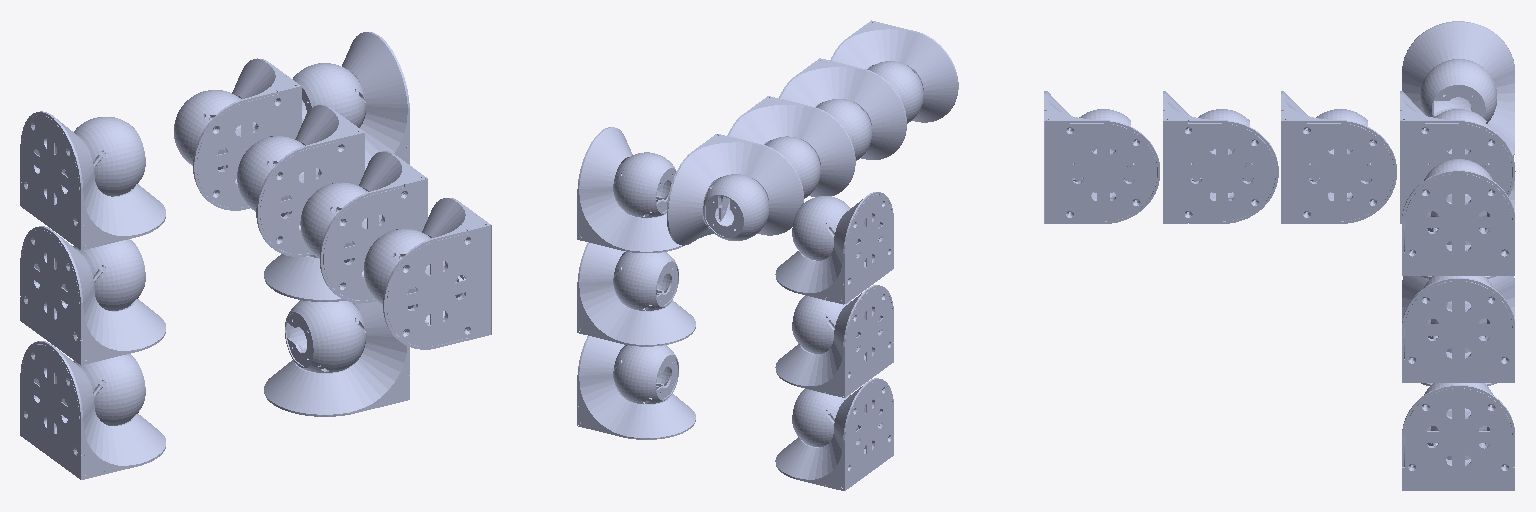
--- Facts derived from the render (not from the file) ---
3 views of the same robot in one strip: view 1: azimuth 30°, elevation 25°; view 2: azimuth 150°, elevation 25°; view 3: azimuth 270°, elevation 25° (orthographic).
Model ubot with 30 links and 29 joints (20 revolute, 9 fixed), rooted at Body0Y, posed every joint at zero.
Visible links, largest first — view 1: Body6X, Body7X, Body9X, Body8X, Body4X, Body0X, Body5X, Body3X, Body1X, Body3Center, Body7Center, Body8Center (+7 smaller); view 2: Body0X, Body9X, Body8X, Body7X, Body1X, Body2X, Body3X, Body6X, Body5X, Body4X, Body0Center, Body2Center (+8 smaller); view 3: Body6X, Body4X, Body5X, Body3X, Body1X, Body2X, Body0X, Body7X, Body7Center, Body9X, Body1Center, Body5Center (+3 smaller).
Boxes of the visible links, <box> form: Body6X: <box>383,198,491,349</box>; Body7X: <box>20,111,165,250</box>; Body9X: <box>20,341,165,479</box>; Body8X: <box>20,226,165,364</box>; Body4X: <box>256,105,364,256</box>; Body0X: <box>193,58,301,210</box>; Body5X: <box>320,151,427,303</box>; Body3X: <box>264,301,409,416</box>; Body1X: <box>342,32,409,169</box>; Body3Center: <box>285,300,365,372</box>; Body7Center: <box>74,117,145,196</box>; Body8Center: <box>73,239,145,310</box>; Body0X: <box>667,134,803,245</box>; Body9X: <box>775,378,893,490</box>; Body8X: <box>775,285,893,397</box>; Body7X: <box>775,192,893,304</box>; Body1X: <box>577,127,682,252</box>; Body2X: <box>577,242,695,346</box>; Body3X: <box>577,336,695,439</box>; Body6X: <box>830,20,958,122</box>; Body5X: <box>779,58,906,159</box>; Body4X: <box>727,96,855,196</box>; Body0Center: <box>703,174,768,240</box>; Body2Center: <box>613,252,678,310</box>; Body6X: <box>1044,91,1159,223</box>; Body4X: <box>1281,91,1396,223</box>; Body5X: <box>1163,91,1278,223</box>; Body3X: <box>1402,385,1514,490</box>; Body1X: <box>1402,170,1514,275</box>; Body2X: <box>1402,277,1514,382</box>; Body0X: <box>1400,91,1515,223</box>; Body7X: <box>1402,21,1514,157</box>; Body7Center: <box>1420,59,1496,124</box>; Body9X: <box>1402,276,1514,385</box>; Body1Center: <box>1424,159,1492,180</box>; Body5Center: <box>1198,109,1249,166</box>.
Bounding box of the posed robot: 0.2748 × 0.3646 × 0.273 m (x, y, z).
Meshes: 3 distinct files referenced, 20 mesh visuals loaded (2 Collada DAE); not drawn: 10 (reference not matched to a file when rendering).

robot.urdf — ubot:
<robot
	name="ubot">
  <link
    name="Body0X">
    <inertial>
      <origin
        xyz="-0.0019165 -0.020284 -1.5446E-08"
        rpy="0 0 0" />
      <mass
        value="0.2" />
      <inertia
        ixx="8.68E-05"
        ixy="-2.3313E-05"
        ixz="-3.6916E-12"
        iyy="8.6964E-05"
        iyz="2.5395E-11"
        izz="8.7186E-05" />
    </inertial>
    <visual>
      <origin
        xyz="0 0 0"
        rpy="0 0 0" />
      <geometry>
        <mesh
          filename="./meshes/BodyX.dae" />
      </geometry>
      <material
        name="">
        <color
          rgba="0.79216 0.81961 0.93333 1" />
      </material>
    </visual>
    <collision>
      <origin
        xyz="0 0 0"
        rpy="0 0 0" />
      <geometry>
        <mesh
          filename="./meshes/BodyXSimple.dae" />
      </geometry>
    </collision>
  </link>

  <link
    name="Body0Center">
    <inertial>
      <origin
        xyz="-0.0022809 -0.0021962 1.0803E-06"
        rpy="0 0 0" />
      <mass
        value="0.05" />
      <inertia
        ixx="1.0293E-05"
        ixy="8.5442E-08"
        ixz="-6.5039E-08"
        iyy="1.0301E-05"
        iyz="6.5245E-08"
        izz="9.1191E-06" />
    </inertial>
    <visual>
      <origin
        xyz="0 0 0"
        rpy="0 0 0" />
      <geometry>
        <mesh
          filename="./meshes/BodyCenter.dae" />
      </geometry>
      <material
        name="">
        <color
          rgba="0.79216 0.81961 0.93333 1" />
      </material>
    </visual>
    <collision>
      <origin
        xyz="0 0 0"
        rpy="0 0 0" />
      <geometry>
        <mesh
          filename="./meshes/BodyCenterSimple.dae" />
      </geometry>
    </collision>
  </link>

  <link
    name="Body0Y">
    <inertial>
      <origin
        xyz="-0.020284 -0.0019165 1.5445E-08"
        rpy="0 0 0" />
      <mass
        value="0.2" />
      <inertia
        ixx="8.6964E-05"
        ixy="-2.3313E-05"
        ixz="-2.5395E-11"
        iyy="8.68E-05"
        iyz="3.6916E-12"
        izz="8.7186E-05" />
    </inertial>
    <visual>
      <origin
        xyz="0 0 0"
        rpy="0 0 0" />
      <geometry>
        <mesh
          filename="./meshes/BodyY.dae" />
      </geometry>
      <material
        name="">
        <color
          rgba="0.79216 0.81961 0.93333 1" />
      </material>
    </visual>
    <collision>
      <origin
        xyz="0 0 0"
        rpy="0 0 0" />
      <geometry>
        <mesh
          filename="./meshes/BodyYSimple.dae" />
      </geometry>
    </collision>
  </link>

  <joint
    name="joint0Y"
    type="revolute">
    <limit effort="1.8" lower="-1.507" upper="1.507" velocity="3.14"/>
    <origin
      xyz="0 -0.0218 0"
      rpy="0 0 0" />
    <parent
      link="Body0Y" />
    <child
      link="Body0Center" />
    <axis
      xyz="0 -1 0" />
  </joint>

  <joint
    name="Joint0X"
    type="revolute">
    <limit effort="1.8" lower="-1.507" upper="1.507" velocity="3.14"/>
    <origin
      xyz="0.0218 0 0"
      rpy="0 0 0" />
    <parent
      link="Body0Center" />
    <child
      link="Body0X" />
    <axis
      xyz="1 0 0" />
  </joint>


  <link
    name="Body1X">
    <inertial>
      <origin
        xyz="-0.0019165 -0.020284 -1.5446E-08"
        rpy="0 0 0" />
      <mass
        value="0.2" />
      <inertia
        ixx="8.68E-05"
        ixy="-2.3313E-05"
        ixz="-3.6916E-12"
        iyy="8.6964E-05"
        iyz="2.5395E-11"
        izz="8.7186E-05" />
    </inertial>
    <visual>
      <origin
        xyz="0 0 0"
        rpy="0 0 0" />
      <geometry>
        <mesh
          filename="./meshes/BodyX.dae" />
      </geometry>
      <material
        name="">
        <color
          rgba="0.79216 0.81961 0.93333 1" />
      </material>
    </visual>
    <collision>
      <origin
        xyz="0 0 0"
        rpy="0 0 0" />
      <geometry>
        <mesh
          filename="./meshes/BodyXSimple.dae" />
      </geometry>
    </collision>
  </link>

  <link
    name="Body1Center">
    <inertial>
      <origin
        xyz="-0.0022809 -0.0021962 1.0803E-06"
        rpy="0 0 0" />
      <mass
        value="0.05" />
      <inertia
        ixx="1.0293E-05"
        ixy="8.5442E-08"
        ixz="-6.5039E-08"
        iyy="1.0301E-05"
        iyz="6.5245E-08"
        izz="9.1191E-06" />
    </inertial>
    <visual>
      <origin
        xyz="0 0 0"
        rpy="0 0 0" />
      <geometry>
        <mesh
          filename="./meshes/BodyCenter.dae" />
      </geometry>
      <material
        name="">
        <color
          rgba="0.79216 0.81961 0.93333 1" />
      </material>
    </visual>
    <collision>
      <origin
        xyz="0 0 0"
        rpy="0 0 0" />
      <geometry>
        <mesh
          filename="./meshes/BodyCenterSimple.dae" />
      </geometry>
    </collision>
  </link>

  <link
    name="Body1Y">
    <inertial>
      <origin
        xyz="-0.020284 -0.0019165 1.5445E-08"
        rpy="0 0 0" />
      <mass
        value="0.2" />
      <inertia
        ixx="8.6964E-05"
        ixy="-2.3313E-05"
        ixz="-2.5395E-11"
        iyy="8.68E-05"
        iyz="3.6916E-12"
        izz="8.7186E-05" />
    </inertial>
    <visual>
      <origin
        xyz="0 0 0"
        rpy="0 0 0" />
      <geometry>
        <mesh
          filename="./meshes/BodyY.dae" />
      </geometry>
      <material
        name="">
        <color
          rgba="0.79216 0.81961 0.93333 1" />
      </material>
    </visual>
    <collision>
      <origin
        xyz="0 0 0"
        rpy="0 0 0" />
      <geometry>
        <mesh
          filename="./meshes/BodyYSimple.dae" />
      </geometry>
    </collision>
  </link>

  <joint
    name="joint1Y"
    type="revolute">
    <limit effort="1.8" lower="-1.507" upper="1.507" velocity="3.14"/>
    <origin
      xyz="0 -0.0218 0"
      rpy="0 0 0" />
    <parent
      link="Body1Y" />
    <child
      link="Body1Center" />
    <axis
      xyz="0 -1 0" />
  </joint>

  <joint
    name="Joint1X"
    type="revolute">
    <limit effort="1.8" lower="-1.507" upper="1.507" velocity="3.14"/>
    <origin
      xyz="0.0218 0 0"
      rpy="0 0 0" />
    <parent
      link="Body1Center" />
    <child
      link="Body1X" />
    <axis
      xyz="1 0 0" />
  </joint>


  <joint
    name="Joint0to1"
    type="fixed">
    <origin
      xyz="0.048 0.0 0.0"
      rpy="0 1.5707963267948966 1.5707963267948966" />
    <parent
      link="Body0X" />
    <child
      link="Body1Y" />
    <axis
      xyz="0 0 0" />
  </joint>

  <link
    name="Body2X">
    <inertial>
      <origin
        xyz="-0.0019165 -0.020284 -1.5446E-08"
        rpy="0 0 0" />
      <mass
        value="0.2" />
      <inertia
        ixx="8.68E-05"
        ixy="-2.3313E-05"
        ixz="-3.6916E-12"
        iyy="8.6964E-05"
        iyz="2.5395E-11"
        izz="8.7186E-05" />
    </inertial>
    <visual>
      <origin
        xyz="0 0 0"
        rpy="0 0 0" />
      <geometry>
        <mesh
          filename="./meshes/BodyX.dae" />
      </geometry>
      <material
        name="">
        <color
          rgba="0.79216 0.81961 0.93333 1" />
      </material>
    </visual>
    <collision>
      <origin
        xyz="0 0 0"
        rpy="0 0 0" />
      <geometry>
        <mesh
          filename="./meshes/BodyXSimple.dae" />
      </geometry>
    </collision>
  </link>

  <link
    name="Body2Center">
    <inertial>
      <origin
        xyz="-0.0022809 -0.0021962 1.0803E-06"
        rpy="0 0 0" />
      <mass
        value="0.05" />
      <inertia
        ixx="1.0293E-05"
        ixy="8.5442E-08"
        ixz="-6.5039E-08"
        iyy="1.0301E-05"
        iyz="6.5245E-08"
        izz="9.1191E-06" />
    </inertial>
    <visual>
      <origin
        xyz="0 0 0"
        rpy="0 0 0" />
      <geometry>
        <mesh
          filename="./meshes/BodyCenter.dae" />
      </geometry>
      <material
        name="">
        <color
          rgba="0.79216 0.81961 0.93333 1" />
      </material>
    </visual>
    <collision>
      <origin
        xyz="0 0 0"
        rpy="0 0 0" />
      <geometry>
        <mesh
          filename="./meshes/BodyCenterSimple.dae" />
      </geometry>
    </collision>
  </link>

  <link
    name="Body2Y">
    <inertial>
      <origin
        xyz="-0.020284 -0.0019165 1.5445E-08"
        rpy="0 0 0" />
      <mass
        value="0.2" />
      <inertia
        ixx="8.6964E-05"
        ixy="-2.3313E-05"
        ixz="-2.5395E-11"
        iyy="8.68E-05"
        iyz="3.6916E-12"
        izz="8.7186E-05" />
    </inertial>
    <visual>
      <origin
        xyz="0 0 0"
        rpy="0 0 0" />
      <geometry>
        <mesh
          filename="./meshes/BodyY.dae" />
      </geometry>
      <material
        name="">
        <color
          rgba="0.79216 0.81961 0.93333 1" />
      </material>
    </visual>
    <collision>
      <origin
        xyz="0 0 0"
        rpy="0 0 0" />
      <geometry>
        <mesh
          filename="./meshes/BodyYSimple.dae" />
      </geometry>
    </collision>
  </link>

  <joint
    name="joint2Y"
    type="revolute">
    <limit effort="1.8" lower="-1.507" upper="1.507" velocity="3.14"/>
    <origin
      xyz="0 -0.0218 0"
      rpy="0 0 0" />
    <parent
      link="Body2Y" />
    <child
      link="Body2Center" />
    <axis
      xyz="0 -1 0" />
  </joint>

  <joint
    name="Joint2X"
    type="revolute">
    <limit effort="1.8" lower="-1.507" upper="1.507" velocity="3.14"/>
    <origin
      xyz="0.0218 0 0"
      rpy="0 0 0" />
    <parent
      link="Body2Center" />
    <child
      link="Body2X" />
    <axis
      xyz="1 0 0" />
  </joint>


  <joint
    name="Joint1to2"
    type="fixed">
    <origin
      xyz="0.0698 0.0218 0.0"
      rpy="0.0 -0.0 0.0" />
    <parent
      link="Body1X" />
    <child
      link="Body2Y" />
    <axis
      xyz="0 0 0" />
  </joint>

  <link
    name="Body3X">
    <inertial>
      <origin
        xyz="-0.0019165 -0.020284 -1.5446E-08"
        rpy="0 0 0" />
      <mass
        value="0.2" />
      <inertia
        ixx="8.68E-05"
        ixy="-2.3313E-05"
        ixz="-3.6916E-12"
        iyy="8.6964E-05"
        iyz="2.5395E-11"
        izz="8.7186E-05" />
    </inertial>
    <visual>
      <origin
        xyz="0 0 0"
        rpy="0 0 0" />
      <geometry>
        <mesh
          filename="./meshes/BodyX.dae" />
      </geometry>
      <material
        name="">
        <color
          rgba="0.79216 0.81961 0.93333 1" />
      </material>
    </visual>
    <collision>
      <origin
        xyz="0 0 0"
        rpy="0 0 0" />
      <geometry>
        <mesh
          filename="./meshes/BodyXSimple.dae" />
      </geometry>
    </collision>
  </link>

  <link
    name="Body3Center">
    <inertial>
      <origin
        xyz="-0.0022809 -0.0021962 1.0803E-06"
        rpy="0 0 0" />
      <mass
        value="0.05" />
      <inertia
        ixx="1.0293E-05"
        ixy="8.5442E-08"
        ixz="-6.5039E-08"
        iyy="1.0301E-05"
        iyz="6.5245E-08"
        izz="9.1191E-06" />
    </inertial>
    <visual>
      <origin
        xyz="0 0 0"
        rpy="0 0 0" />
      <geometry>
        <mesh
          filename="./meshes/BodyCenter.dae" />
      </geometry>
      <material
        name="">
        <color
          rgba="0.79216 0.81961 0.93333 1" />
      </material>
    </visual>
    <collision>
      <origin
        xyz="0 0 0"
        rpy="0 0 0" />
      <geometry>
        <mesh
          filename="./meshes/BodyCenterSimple.dae" />
      </geometry>
    </collision>
  </link>

  <link
    name="Body3Y">
    <inertial>
      <origin
        xyz="-0.020284 -0.0019165 1.5445E-08"
        rpy="0 0 0" />
      <mass
        value="0.2" />
      <inertia
        ixx="8.6964E-05"
        ixy="-2.3313E-05"
        ixz="-2.5395E-11"
        iyy="8.68E-05"
        iyz="3.6916E-12"
        izz="8.7186E-05" />
    </inertial>
    <visual>
      <origin
        xyz="0 0 0"
        rpy="0 0 0" />
      <geometry>
        <mesh
          filename="./meshes/BodyY.dae" />
      </geometry>
      <material
        name="">
        <color
          rgba="0.79216 0.81961 0.93333 1" />
      </material>
    </visual>
    <collision>
      <origin
        xyz="0 0 0"
        rpy="0 0 0" />
      <geometry>
        <mesh
          filename="./meshes/BodyYSimple.dae" />
      </geometry>
    </collision>
  </link>

  <joint
    name="joint3Y"
    type="revolute">
    <limit effort="1.8" lower="-1.507" upper="1.507" velocity="3.14"/>
    <origin
      xyz="0 -0.0218 0"
      rpy="0 0 0" />
    <parent
      link="Body3Y" />
    <child
      link="Body3Center" />
    <axis
      xyz="0 -1 0" />
  </joint>

  <joint
    name="Joint3X"
    type="revolute">
    <limit effort="1.8" lower="-1.507" upper="1.507" velocity="3.14"/>
    <origin
      xyz="0.0218 0 0"
      rpy="0 0 0" />
    <parent
      link="Body3Center" />
    <child
      link="Body3X" />
    <axis
      xyz="1 0 0" />
  </joint>


  <joint
    name="Joint2to3"
    type="fixed">
    <origin
      xyz="0.0698 0.0218 0.0"
      rpy="0.0 -0.0 0.0" />
    <parent
      link="Body2X" />
    <child
      link="Body3Y" />
    <axis
      xyz="0 0 0" />
  </joint>

  <link
    name="Body4X">
    <inertial>
      <origin
        xyz="-0.0019165 -0.020284 -1.5446E-08"
        rpy="0 0 0" />
      <mass
        value="0.2" />
      <inertia
        ixx="8.68E-05"
        ixy="-2.3313E-05"
        ixz="-3.6916E-12"
        iyy="8.6964E-05"
        iyz="2.5395E-11"
        izz="8.7186E-05" />
    </inertial>
    <visual>
      <origin
        xyz="0 0 0"
        rpy="0 0 0" />
      <geometry>
        <mesh
          filename="./meshes/BodyX.dae" />
      </geometry>
      <material
        name="">
        <color
          rgba="0.79216 0.81961 0.93333 1" />
      </material>
    </visual>
    <collision>
      <origin
        xyz="0 0 0"
        rpy="0 0 0" />
      <geometry>
        <mesh
          filename="./meshes/BodyXSimple.dae" />
      </geometry>
    </collision>
  </link>

  <link
    name="Body4Center">
    <inertial>
      <origin
        xyz="-0.0022809 -0.0021962 1.0803E-06"
        rpy="0 0 0" />
      <mass
        value="0.05" />
      <inertia
        ixx="1.0293E-05"
        ixy="8.5442E-08"
        ixz="-6.5039E-08"
        iyy="1.0301E-05"
        iyz="6.5245E-08"
        izz="9.1191E-06" />
    </inertial>
    <visual>
      <origin
        xyz="0 0 0"
        rpy="0 0 0" />
      <geometry>
        <mesh
          filename="./meshes/BodyCenter.dae" />
      </geometry>
      <material
        name="">
        <color
          rgba="0.79216 0.81961 0.93333 1" />
      </material>
    </visual>
    <collision>
      <origin
        xyz="0 0 0"
        rpy="0 0 0" />
      <geometry>
        <mesh
          filename="./meshes/BodyCenterSimple.dae" />
      </geometry>
    </collision>
  </link>

  <link
    name="Body4Y">
    <inertial>
      <origin
        xyz="-0.020284 -0.0019165 1.5445E-08"
        rpy="0 0 0" />
      <mass
        value="0.2" />
      <inertia
        ixx="8.6964E-05"
        ixy="-2.3313E-05"
        ixz="-2.5395E-11"
        iyy="8.68E-05"
        iyz="3.6916E-12"
        izz="8.7186E-05" />
    </inertial>
    <visual>
      <origin
        xyz="0 0 0"
        rpy="0 0 0" />
      <geometry>
        <mesh
          filename="./meshes/BodyY.dae" />
      </geometry>
      <material
        name="">
        <color
          rgba="0.79216 0.81961 0.93333 1" />
      </material>
    </visual>
    <collision>
      <origin
        xyz="0 0 0"
        rpy="0 0 0" />
      <geometry>
        <mesh
          filename="./meshes/BodyYSimple.dae" />
      </geometry>
    </collision>
  </link>

  <joint
    name="joint4Y"
    type="revolute">
    <limit effort="1.8" lower="-1.507" upper="1.507" velocity="3.14"/>
    <origin
      xyz="0 -0.0218 0"
      rpy="0 0 0" />
    <parent
      link="Body4Y" />
    <child
      link="Body4Center" />
    <axis
      xyz="0 -1 0" />
  </joint>

  <joint
    name="Joint4X"
    type="revolute">
    <limit effort="1.8" lower="-1.507" upper="1.507" velocity="3.14"/>
    <origin
      xyz="0.0218 0 0"
      rpy="0 0 0" />
    <parent
      link="Body4Center" />
    <child
      link="Body4X" />
    <axis
      xyz="1 0 0" />
  </joint>


  <joint
    name="Joint0to4"
    type="fixed">
    <origin
      xyz="-0.0218 -0.0698 0.0"
      rpy="0.0 -0.0 0.0" />
    <parent
      link="Body0X" />
    <child
      link="Body4Y" />
    <axis
      xyz="0 0 0" />
  </joint>

  <link
    name="Body5X">
    <inertial>
      <origin
        xyz="-0.0019165 -0.020284 -1.5446E-08"
        rpy="0 0 0" />
      <mass
        value="0.2" />
      <inertia
        ixx="8.68E-05"
        ixy="-2.3313E-05"
        ixz="-3.6916E-12"
        iyy="8.6964E-05"
        iyz="2.5395E-11"
        izz="8.7186E-05" />
    </inertial>
    <visual>
      <origin
        xyz="0 0 0"
        rpy="0 0 0" />
      <geometry>
        <mesh
          filename="./meshes/BodyX.dae" />
      </geometry>
      <material
        name="">
        <color
          rgba="0.79216 0.81961 0.93333 1" />
      </material>
    </visual>
    <collision>
      <origin
        xyz="0 0 0"
        rpy="0 0 0" />
      <geometry>
        <mesh
          filename="./meshes/BodyXSimple.dae" />
      </geometry>
    </collision>
  </link>

  <link
    name="Body5Center">
    <inertial>
      <origin
        xyz="-0.0022809 -0.0021962 1.0803E-06"
        rpy="0 0 0" />
      <mass
        value="0.05" />
      <inertia
        ixx="1.0293E-05"
        ixy="8.5442E-08"
        ixz="-6.5039E-08"
        iyy="1.0301E-05"
        iyz="6.5245E-08"
        izz="9.1191E-06" />
    </inertial>
    <visual>
      <origin
        xyz="0 0 0"
        rpy="0 0 0" />
      <geometry>
        <mesh
          filename="./meshes/BodyCenter.dae" />
      </geometry>
      <material
        name="">
        <color
          rgba="0.79216 0.81961 0.93333 1" />
      </material>
    </visual>
    <collision>
      <origin
        xyz="0 0 0"
        rpy="0 0 0" />
      <geometry>
        <mesh
          filename="./meshes/BodyCenterSimple.dae" />
      </geometry>
    </collision>
  </link>

  <link
    name="Body5Y">
    <inertial>
      <origin
        xyz="-0.020284 -0.0019165 1.5445E-08"
        rpy="0 0 0" />
      <mass
        value="0.2" />
      <inertia
        ixx="8.6964E-05"
        ixy="-2.3313E-05"
        ixz="-2.5395E-11"
        iyy="8.68E-05"
        iyz="3.6916E-12"
        izz="8.7186E-05" />
    </inertial>
    <visual>
      <origin
        xyz="0 0 0"
        rpy="0 0 0" />
      <geometry>
        <mesh
          filename="./meshes/BodyY.dae" />
      </geometry>
      <material
        name="">
        <color
          rgba="0.79216 0.81961 0.93333 1" />
      </material>
    </visual>
    <collision>
      <origin
        xyz="0 0 0"
        rpy="0 0 0" />
      <geometry>
        <mesh
          filename="./meshes/BodyYSimple.dae" />
      </geometry>
    </collision>
  </link>

  <joint
    name="joint5Y"
    type="revolute">
    <limit effort="1.8" lower="-1.507" upper="1.507" velocity="3.14"/>
    <origin
      xyz="0 -0.0218 0"
      rpy="0 0 0" />
    <parent
      link="Body5Y" />
    <child
      link="Body5Center" />
    <axis
      xyz="0 -1 0" />
  </joint>

  <joint
    name="Joint5X"
    type="revolute">
    <limit effort="1.8" lower="-1.507" upper="1.507" velocity="3.14"/>
    <origin
      xyz="0.0218 0 0"
      rpy="0 0 0" />
    <parent
      link="Body5Center" />
    <child
      link="Body5X" />
    <axis
      xyz="1 0 0" />
  </joint>


  <joint
    name="Joint4to5"
    type="fixed">
    <origin
      xyz="-0.0218 -0.0698 0.0"
      rpy="0.0 -0.0 0.0" />
    <parent
      link="Body4X" />
    <child
      link="Body5Y" />
    <axis
      xyz="0 0 0" />
  </joint>

  <link
    name="Body6X">
    <inertial>
      <origin
        xyz="-0.0019165 -0.020284 -1.5446E-08"
        rpy="0 0 0" />
      <mass
        value="0.2" />
      <inertia
        ixx="8.68E-05"
        ixy="-2.3313E-05"
        ixz="-3.6916E-12"
        iyy="8.6964E-05"
        iyz="2.5395E-11"
        izz="8.7186E-05" />
    </inertial>
    <visual>
      <origin
        xyz="0 0 0"
        rpy="0 0 0" />
      <geometry>
        <mesh
          filename="./meshes/BodyX.dae" />
      </geometry>
      <material
        name="">
        <color
          rgba="0.79216 0.81961 0.93333 1" />
      </material>
    </visual>
    <collision>
      <origin
        xyz="0 0 0"
        rpy="0 0 0" />
      <geometry>
        <mesh
          filename="./meshes/BodyXSimple.dae" />
      </geometry>
    </collision>
  </link>

  <link
    name="Body6Center">
    <inertial>
      <origin
        xyz="-0.0022809 -0.0021962 1.0803E-06"
        rpy="0 0 0" />
      <mass
        value="0.05" />
      <inertia
        ixx="1.0293E-05"
        ixy="8.5442E-08"
        ixz="-6.5039E-08"
        iyy="1.0301E-05"
        iyz="6.5245E-08"
        izz="9.1191E-06" />
    </inertial>
    <visual>
      <origin
        xyz="0 0 0"
        rpy="0 0 0" />
      <geometry>
        <mesh
          filename="./meshes/BodyCenter.dae" />
      </geometry>
      <material
        name="">
        <color
          rgba="0.79216 0.81961 0.93333 1" />
      </material>
    </visual>
    <collision>
      <origin
        xyz="0 0 0"
        rpy="0 0 0" />
      <geometry>
        <mesh
          filename="./meshes/BodyCenterSimple.dae" />
      </geometry>
    </collision>
  </link>

  <link
    name="Body6Y">
    <inertial>
      <origin
        xyz="-0.020284 -0.0019165 1.5445E-08"
        rpy="0 0 0" />
      <mass
        value="0.2" />
      <inertia
        ixx="8.6964E-05"
        ixy="-2.3313E-05"
        ixz="-2.5395E-11"
        iyy="8.68E-05"
        iyz="3.6916E-12"
        izz="8.7186E-05" />
    </inertial>
    <visual>
      <origin
        xyz="0 0 0"
        rpy="0 0 0" />
      <geometry>
        <mesh
          filename="./meshes/BodyY.dae" />
      </geometry>
      <material
        name="">
        <color
          rgba="0.79216 0.81961 0.93333 1" />
      </material>
    </visual>
    <collision>
      <origin
        xyz="0 0 0"
        rpy="0 0 0" />
      <geometry>
        <mesh
          filename="./meshes/BodyYSimple.dae" />
      </geometry>
    </collision>
  </link>

  <joint
    name="joint6Y"
    type="revolute">
    <limit effort="1.8" lower="-1.507" upper="1.507" velocity="3.14"/>
    <origin
      xyz="0 -0.0218 0"
      rpy="0 0 0" />
    <parent
      link="Body6Y" />
    <child
      link="Body6Center" />
    <axis
      xyz="0 -1 0" />
  </joint>

  <joint
    name="Joint6X"
    type="revolute">
    <limit effort="1.8" lower="-1.507" upper="1.507" velocity="3.14"/>
    <origin
      xyz="0.0218 0 0"
      rpy="0 0 0" />
    <parent
      link="Body6Center" />
    <child
      link="Body6X" />
    <axis
      xyz="1 0 0" />
  </joint>


  <joint
    name="Joint5to6"
    type="fixed">
    <origin
      xyz="-0.0218 -0.0698 0.0"
      rpy="0.0 -0.0 0.0" />
    <parent
      link="Body5X" />
    <child
      link="Body6Y" />
    <axis
      xyz="0 0 0" />
  </joint>

  <link
    name="Body7X">
    <inertial>
      <origin
        xyz="-0.0019165 -0.020284 -1.5446E-08"
        rpy="0 0 0" />
      <mass
        value="0.2" />
      <inertia
        ixx="8.68E-05"
        ixy="-2.3313E-05"
        ixz="-3.6916E-12"
        iyy="8.6964E-05"
        iyz="2.5395E-11"
        izz="8.7186E-05" />
    </inertial>
    <visual>
      <origin
        xyz="0 0 0"
        rpy="0 0 0" />
      <geometry>
        <mesh
          filename="./meshes/BodyX.dae" />
      </geometry>
      <material
        name="">
        <color
          rgba="0.79216 0.81961 0.93333 1" />
      </material>
    </visual>
    <collision>
      <origin
        xyz="0 0 0"
        rpy="0 0 0" />
      <geometry>
        <mesh
          filename="./meshes/BodyXSimple.dae" />
      </geometry>
    </collision>
  </link>

  <link
    name="Body7Center">
    <inertial>
      <origin
        xyz="-0.0022809 -0.0021962 1.0803E-06"
        rpy="0 0 0" />
      <mass
        value="0.05" />
      <inertia
        ixx="1.0293E-05"
        ixy="8.5442E-08"
        ixz="-6.5039E-08"
        iyy="1.0301E-05"
        iyz="6.5245E-08"
        izz="9.1191E-06" />
    </inertial>
    <visual>
      <origin
        xyz="0 0 0"
        rpy="0 0 0" />
      <geometry>
        <mesh
          filename="./meshes/BodyCenter.dae" />
      </geometry>
      <material
        name="">
        <color
          rgba="0.79216 0.81961 0.93333 1" />
      </material>
    </visual>
    <collision>
      <origin
        xyz="0 0 0"
        rpy="0 0 0" />
      <geometry>
        <mesh
          filename="./meshes/BodyCenterSimple.dae" />
      </geometry>
    </collision>
  </link>

  <link
    name="Body7Y">
    <inertial>
      <origin
        xyz="-0.020284 -0.0019165 1.5445E-08"
        rpy="0 0 0" />
      <mass
        value="0.2" />
      <inertia
        ixx="8.6964E-05"
        ixy="-2.3313E-05"
        ixz="-2.5395E-11"
        iyy="8.68E-05"
        iyz="3.6916E-12"
        izz="8.7186E-05" />
    </inertial>
    <visual>
      <origin
        xyz="0 0 0"
        rpy="0 0 0" />
      <geometry>
        <mesh
          filename="./meshes/BodyY.dae" />
      </geometry>
      <material
        name="">
        <color
          rgba="0.79216 0.81961 0.93333 1" />
      </material>
    </visual>
    <collision>
      <origin
        xyz="0 0 0"
        rpy="0 0 0" />
      <geometry>
        <mesh
          filename="./meshes/BodyYSimple.dae" />
      </geometry>
    </collision>
  </link>

  <joint
    name="joint7Y"
    type="revolute">
    <limit effort="1.8" lower="-1.507" upper="1.507" velocity="3.14"/>
    <origin
      xyz="0 -0.0218 0"
      rpy="0 0 0" />
    <parent
      link="Body7Y" />
    <child
      link="Body7Center" />
    <axis
      xyz="0 -1 0" />
  </joint>

  <joint
    name="Joint7X"
    type="revolute">
    <limit effort="1.8" lower="-1.507" upper="1.507" velocity="3.14"/>
    <origin
      xyz="0.0218 0 0"
      rpy="0 0 0" />
    <parent
      link="Body7Center" />
    <child
      link="Body7X" />
    <axis
      xyz="1 0 0" />
  </joint>


  <joint
    name="Joint0to7"
    type="fixed">
    <origin
      xyz="-0.0698 -0.0218 0.0"
      rpy="0 1.5707963267948966 -1.5707963267948966" />
    <parent
      link="Body0Y" />
    <child
      link="Body7Y" />
    <axis
      xyz="0 0 0" />
  </joint>

  <link
    name="Body8X">
    <inertial>
      <origin
        xyz="-0.0019165 -0.020284 -1.5446E-08"
        rpy="0 0 0" />
      <mass
        value="0.2" />
      <inertia
        ixx="8.68E-05"
        ixy="-2.3313E-05"
        ixz="-3.6916E-12"
        iyy="8.6964E-05"
        iyz="2.5395E-11"
        izz="8.7186E-05" />
    </inertial>
    <visual>
      <origin
        xyz="0 0 0"
        rpy="0 0 0" />
      <geometry>
        <mesh
          filename="./meshes/BodyX.dae" />
      </geometry>
      <material
        name="">
        <color
          rgba="0.79216 0.81961 0.93333 1" />
      </material>
    </visual>
    <collision>
      <origin
        xyz="0 0 0"
        rpy="0 0 0" />
      <geometry>
        <mesh
          filename="./meshes/BodyXSimple.dae" />
      </geometry>
    </collision>
  </link>

  <link
    name="Body8Center">
    <inertial>
      <origin
        xyz="-0.0022809 -0.0021962 1.0803E-06"
        rpy="0 0 0" />
      <mass
        value="0.05" />
      <inertia
        ixx="1.0293E-05"
        ixy="8.5442E-08"
        ixz="-6.5039E-08"
        iyy="1.0301E-05"
        iyz="6.5245E-08"
        izz="9.1191E-06" />
    </inertial>
    <visual>
      <origin
        xyz="0 0 0"
        rpy="0 0 0" />
      <geometry>
        <mesh
          filename="./meshes/BodyCenter.dae" />
      </geometry>
      <material
        name="">
        <color
          rgba="0.79216 0.81961 0.93333 1" />
      </material>
    </visual>
    <collision>
      <origin
        xyz="0 0 0"
        rpy="0 0 0" />
      <geometry>
        <mesh
          filename="./meshes/BodyCenterSimple.dae" />
      </geometry>
    </collision>
  </link>

  <link
    name="Body8Y">
    <inertial>
      <origin
        xyz="-0.020284 -0.0019165 1.5445E-08"
        rpy="0 0 0" />
      <mass
        value="0.2" />
      <inertia
        ixx="8.6964E-05"
        ixy="-2.3313E-05"
        ixz="-2.5395E-11"
        iyy="8.68E-05"
        iyz="3.6916E-12"
        izz="8.7186E-05" />
    </inertial>
    <visual>
      <origin
        xyz="0 0 0"
        rpy="0 0 0" />
      <geometry>
        <mesh
          filename="./meshes/BodyY.dae" />
      </geometry>
      <material
        name="">
        <color
          rgba="0.79216 0.81961 0.93333 1" />
      </material>
    </visual>
    <collision>
      <origin
        xyz="0 0 0"
        rpy="0 0 0" />
      <geometry>
        <mesh
          filename="./meshes/BodyYSimple.dae" />
      </geometry>
    </collision>
  </link>

  <joint
    name="joint8Y"
    type="revolute">
    <limit effort="1.8" lower="-1.507" upper="1.507" velocity="3.14"/>
    <origin
      xyz="0 -0.0218 0"
      rpy="0 0 0" />
    <parent
      link="Body8Y" />
    <child
      link="Body8Center" />
    <axis
      xyz="0 -1 0" />
  </joint>

  <joint
    name="Joint8X"
    type="revolute">
    <limit effort="1.8" lower="-1.507" upper="1.507" velocity="3.14"/>
    <origin
      xyz="0.0218 0 0"
      rpy="0 0 0" />
    <parent
      link="Body8Center" />
    <child
      link="Body8X" />
    <axis
      xyz="1 0 0" />
  </joint>


  <joint
    name="Joint7to8"
    type="fixed">
    <origin
      xyz="0.0698 0.0218 0.0"
      rpy="0.0 -0.0 0.0" />
    <parent
      link="Body7X" />
    <child
      link="Body8Y" />
    <axis
      xyz="0 0 0" />
  </joint>

  <link
    name="Body9X">
    <inertial>
      <origin
        xyz="-0.0019165 -0.020284 -1.5446E-08"
        rpy="0 0 0" />
      <mass
        value="0.2" />
      <inertia
        ixx="8.68E-05"
        ixy="-2.3313E-05"
        ixz="-3.6916E-12"
        iyy="8.6964E-05"
        iyz="2.5395E-11"
        izz="8.7186E-05" />
    </inertial>
    <visual>
      <origin
        xyz="0 0 0"
        rpy="0 0 0" />
      <geometry>
        <mesh
          filename="./meshes/BodyX.dae" />
      </geometry>
      <material
        name="">
        <color
          rgba="0.79216 0.81961 0.93333 1" />
      </material>
    </visual>
    <collision>
      <origin
        xyz="0 0 0"
        rpy="0 0 0" />
      <geometry>
        <mesh
          filename="./meshes/BodyXSimple.dae" />
      </geometry>
    </collision>
  </link>

  <link
    name="Body9Center">
    <inertial>
      <origin
        xyz="-0.0022809 -0.0021962 1.0803E-06"
        rpy="0 0 0" />
      <mass
        value="0.05" />
      <inertia
        ixx="1.0293E-05"
        ixy="8.5442E-08"
        ixz="-6.5039E-08"
        iyy="1.0301E-05"
        iyz="6.5245E-08"
        izz="9.1191E-06" />
    </inertial>
    <visual>
      <origin
        xyz="0 0 0"
        rpy="0 0 0" />
      <geometry>
        <mesh
          filename="./meshes/BodyCenter.dae" />
      </geometry>
      <material
        name="">
        <color
          rgba="0.79216 0.81961 0.93333 1" />
      </material>
    </visual>
    <collision>
      <origin
        xyz="0 0 0"
        rpy="0 0 0" />
      <geometry>
        <mesh
          filename="./meshes/BodyCenterSimple.dae" />
      </geometry>
    </collision>
  </link>

  <link
    name="Body9Y">
    <inertial>
      <origin
        xyz="-0.020284 -0.0019165 1.5445E-08"
        rpy="0 0 0" />
      <mass
        value="0.2" />
      <inertia
        ixx="8.6964E-05"
        ixy="-2.3313E-05"
        ixz="-2.5395E-11"
        iyy="8.68E-05"
        iyz="3.6916E-12"
        izz="8.7186E-05" />
    </inertial>
    <visual>
      <origin
        xyz="0 0 0"
        rpy="0 0 0" />
      <geometry>
        <mesh
          filename="./meshes/BodyY.dae" />
      </geometry>
      <material
        name="">
        <color
          rgba="0.79216 0.81961 0.93333 1" />
      </material>
    </visual>
    <collision>
      <origin
        xyz="0 0 0"
        rpy="0 0 0" />
      <geometry>
        <mesh
          filename="./meshes/BodyYSimple.dae" />
      </geometry>
    </collision>
  </link>

  <joint
    name="joint9Y"
    type="revolute">
    <limit effort="1.8" lower="-1.507" upper="1.507" velocity="3.14"/>
    <origin
      xyz="0 -0.0218 0"
      rpy="0 0 0" />
    <parent
      link="Body9Y" />
    <child
      link="Body9Center" />
    <axis
      xyz="0 -1 0" />
  </joint>

  <joint
    name="Joint9X"
    type="revolute">
    <limit effort="1.8" lower="-1.507" upper="1.507" velocity="3.14"/>
    <origin
      xyz="0.0218 0 0"
      rpy="0 0 0" />
    <parent
      link="Body9Center" />
    <child
      link="Body9X" />
    <axis
      xyz="1 0 0" />
  </joint>


  <joint
    name="Joint8to9"
    type="fixed">
    <origin
      xyz="0.0698 0.0218 0.0"
      rpy="0.0 -0.0 0.0" />
    <parent
      link="Body8X" />
    <child
      link="Body9Y" />
    <axis
      xyz="0 0 0" />
  </joint>

</robot>
